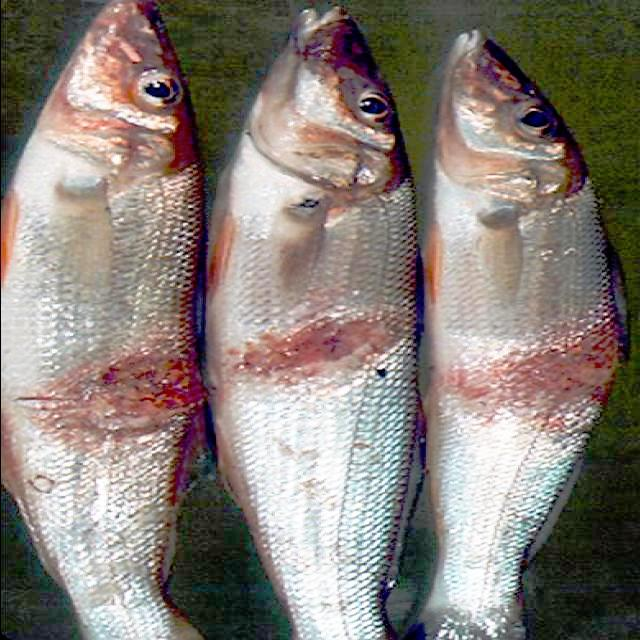Epizootic Ulcerative Syndrome -EUS-: (208, 7, 419, 639), (2, 0, 205, 639), (421, 30, 621, 639)
